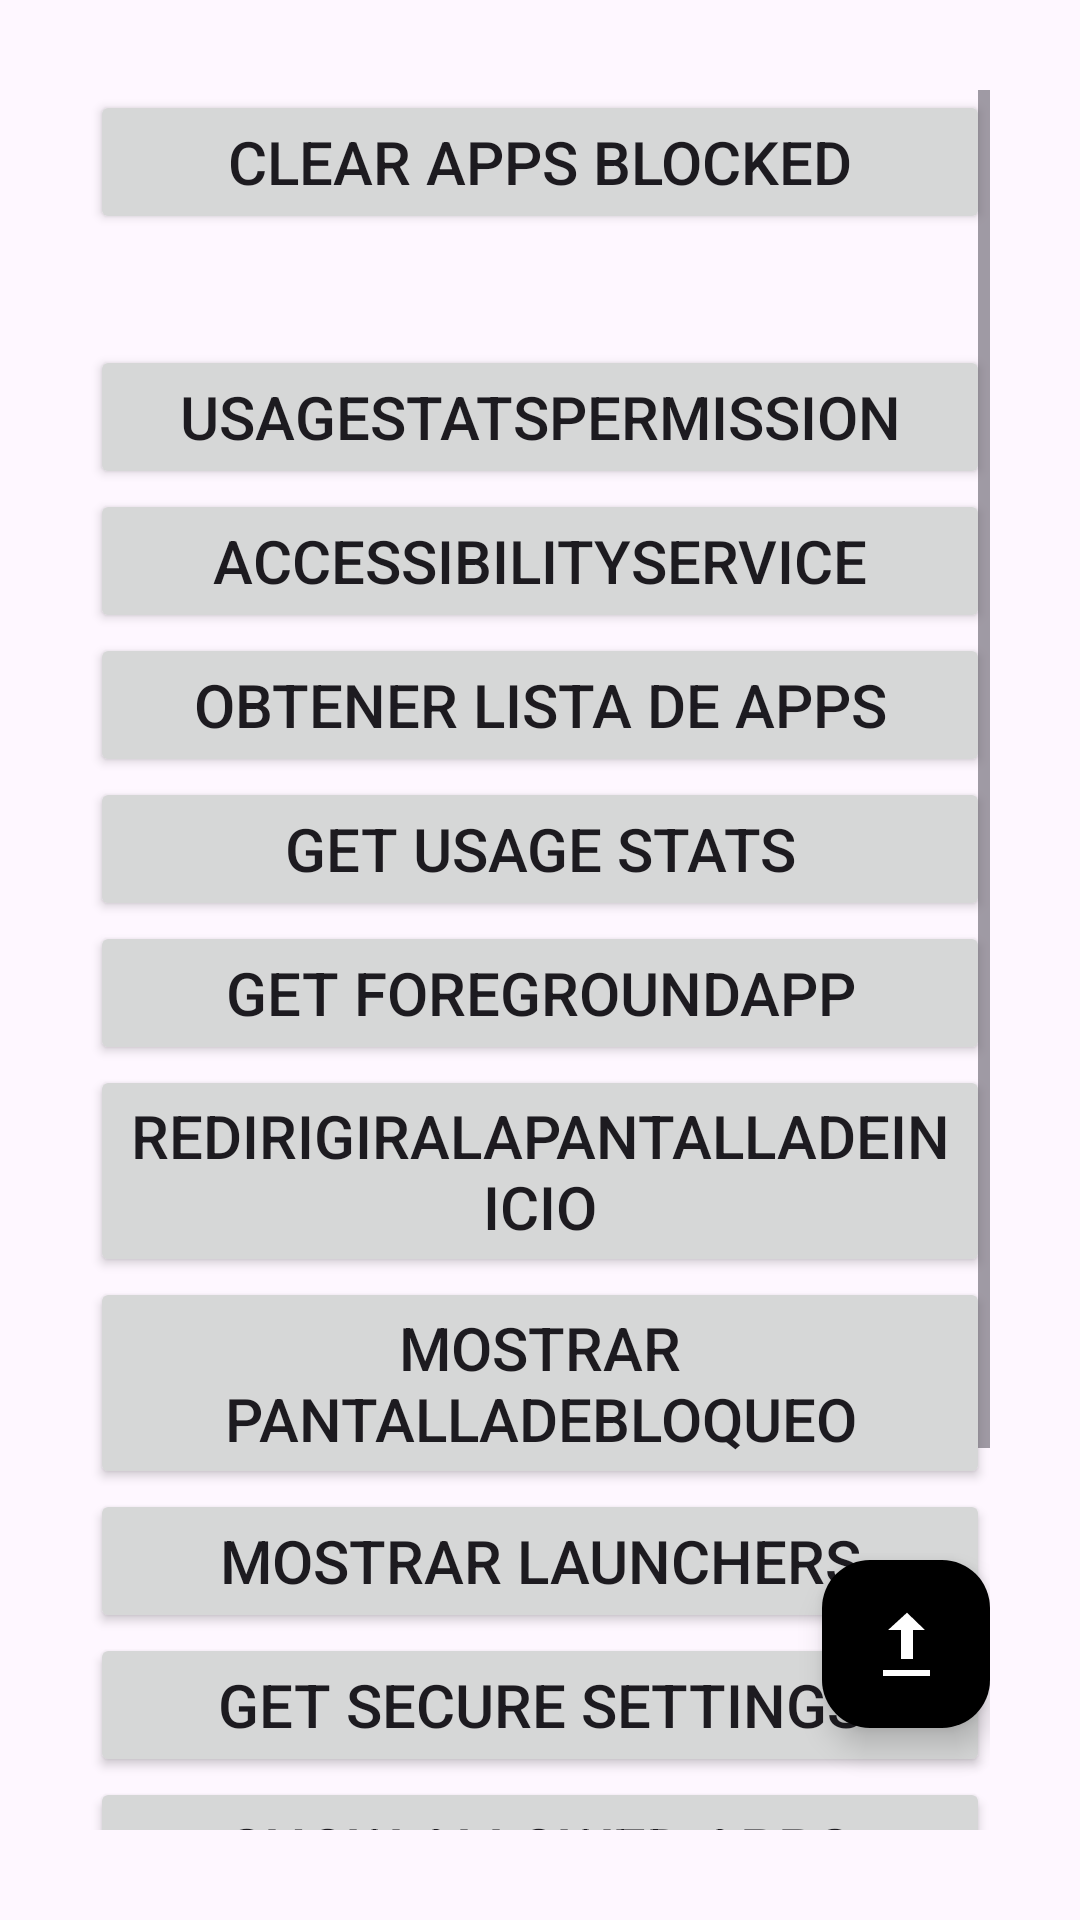

Icon click points for this 1080w x 1920h phone screenshot, format (x=x, y=y):
upload: (x=906, y=1644)
